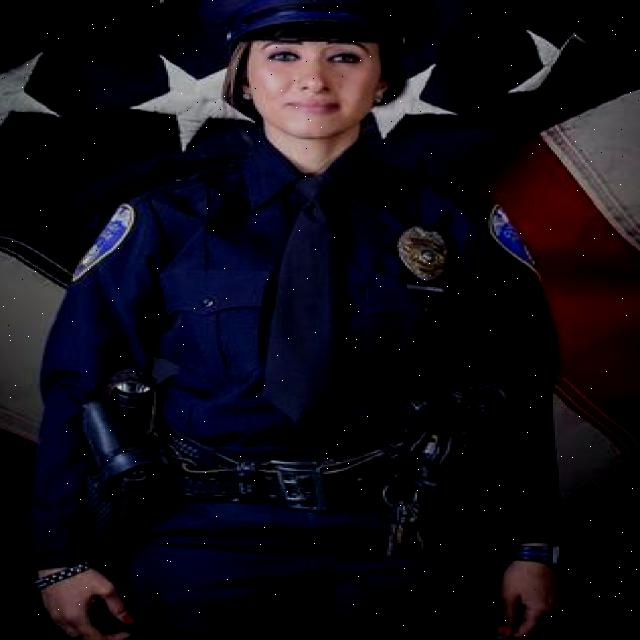police: (29, 0, 578, 640)
